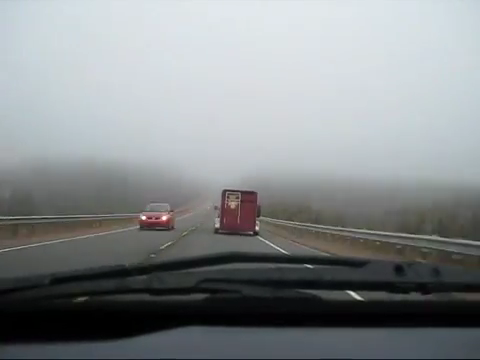car: (212, 188, 263, 236), (136, 200, 176, 230)
